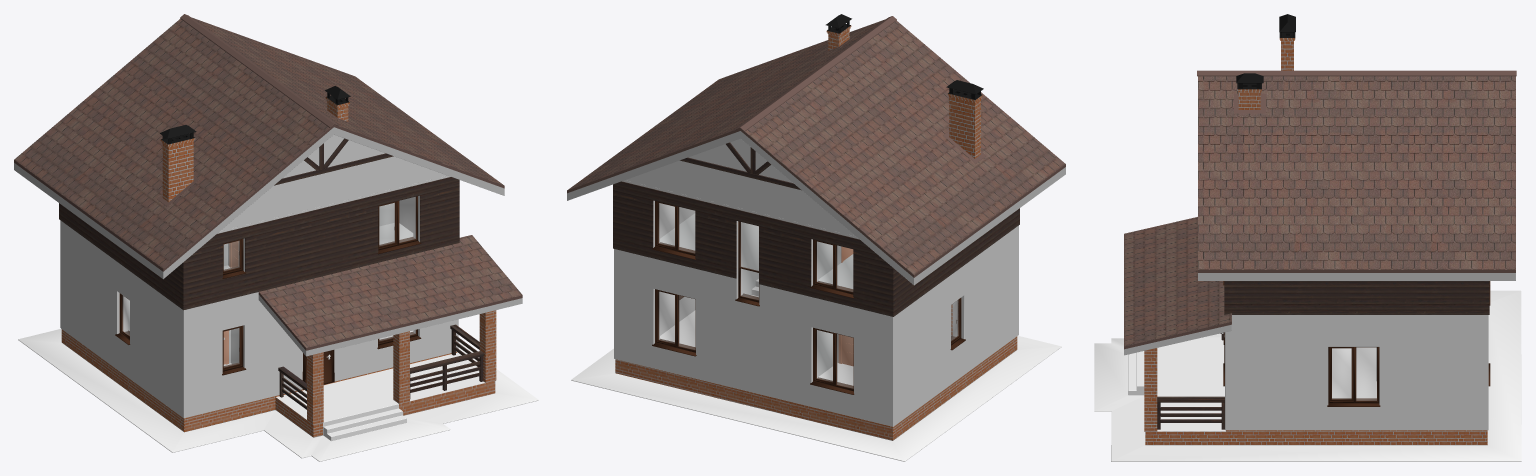
File: CasaCuatro-PrimerPlanta.glb
3 renders of one model, left to right at view 1: azimuth 30°, elevation 25°; view 2: azimuth 150°, elevation 25°; view 3: azimuth 270°, elevation 25°, orthographic. The views are drawn at different scales.
Parts seen in each view (by area): view 1: Krov, House KolB, 2et, 1et, Cher, okn_dver, peril, Vent; view 2: Krov, 1et, 2et, House KolB, okn_dver, Cher, Vent; view 3: Krov, House KolB, 1et, 2et, okn_dver, Vent, peril.
Part boxes in pixels (<box>): Krov: <box>14,14,522,356</box>; House KolB: <box>18,310,538,461</box>; 2et: <box>59,177,459,331</box>; 1et: <box>60,241,458,418</box>; Cher: <box>217,135,450,233</box>; okn_dver: <box>115,196,421,389</box>; peril: <box>278,324,484,409</box>; Vent: <box>160,86,350,202</box>; Krov: <box>567,16,1065,285</box>; 1et: <box>614,246,1018,426</box>; 2et: <box>613,181,1019,338</box>; House KolB: <box>571,310,1061,461</box>; okn_dver: <box>652,201,965,394</box>; Cher: <box>622,138,858,239</box>; Vent: <box>826,14,983,335</box>; Krov: <box>1124,70,1516,355</box>; House KolB: <box>1094,290,1521,461</box>; 1et: <box>1225,337,1488,430</box>; 2et: <box>1224,281,1489,337</box>; okn_dver: <box>1222,281,1490,406</box>; Vent: <box>1236,14,1295,109</box>; peril: <box>1157,332,1224,429</box>.
Size of what is drawn, in the model's own units: 12.3 by 10.28 by 12.52.
12 materials, 3 textured.
